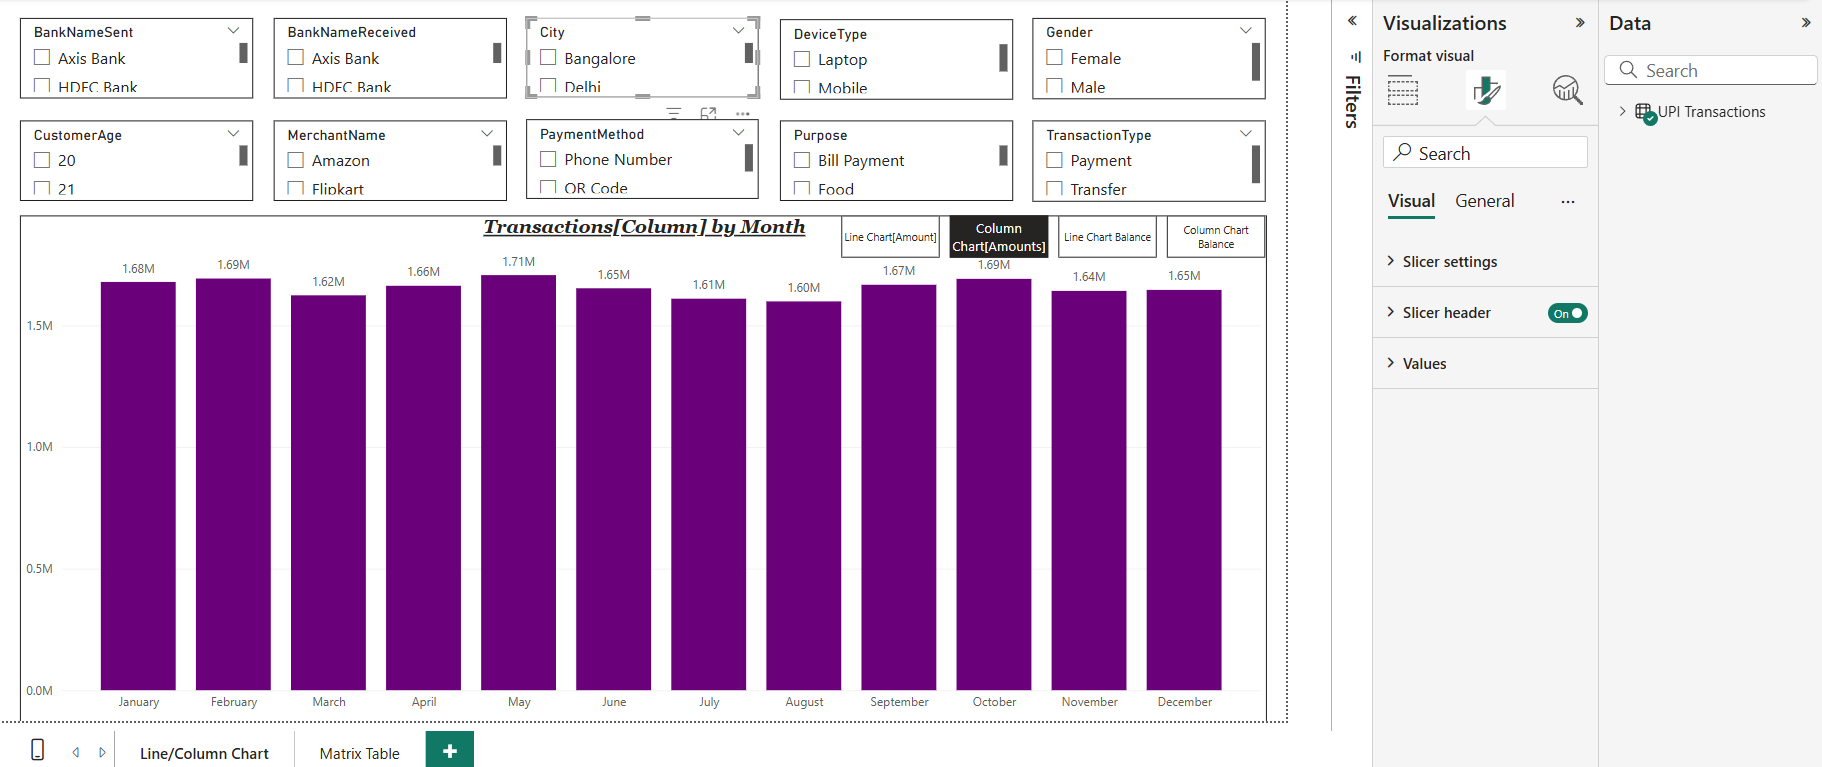

What the dashboard file says about the page in this screenshot:
{"tool":"powerbi","page":{"name":"Line/Column Chart","canvas":[1280,720],"ordinal":0},"visuals":[{"type":"slicer","fields":{"Values":["UPI Transactions.BankNameSent"]},"box":[20,20,232,80],"z":0},{"type":"slicer","fields":{"Values":["UPI Transactions.CustomerAge"]},"box":[20,121.4,232,80],"z":1000},{"type":"slicer","fields":{"Values":["UPI Transactions.BankNameReceived"]},"box":[272,20,232,80],"z":2000},{"type":"slicer","fields":{"Values":["UPI Transactions.MerchantName"]},"box":[272,121.4,232,80],"z":3000},{"type":"slicer","fields":{"Values":["UPI Transactions.City"]},"box":[523.4,19.6,231.1,79.5],"z":4000},{"type":"slicer","fields":{"Values":["UPI Transactions.PaymentMethod"]},"box":[523.4,121,231.1,79.5],"z":5000},{"type":"slicer","fields":{"Values":["UPI Transactions.DeviceType"]},"box":[776,20.8,232,80],"z":6000},{"type":"slicer","fields":{"Values":["UPI Transactions.Purpose"]},"box":[776,122.2,232,80],"z":7000},{"type":"slicer","fields":{"Values":["UPI Transactions.Gender"]},"box":[1028,20,232,80.7],"z":8000},{"type":"slicer","fields":{"Values":["UPI Transactions.TransactionType"]},"box":[1028,121.4,232,80.7],"z":9000},{"type":"lineChart","title":"Balance by Month[Line]","fields":{"Category":["UPI Transactions.TransactionDate.Variation.Date Hierarchy.Month"],"Y":["Sum(UPI Transactions.RemainingBalance)"]},"box":[19,216.1,1241.6,503.9],"z":14000},{"type":"bookmarkNavigator","box":[836.6,216,424.5,42.2],"z":14500}]}

Visuals, with their boxes on the page's 1280x720 design canvas (x1, y1, x2, y2). These are canvas units, not pixel positions in the 1822x767 screenshot, which may show the page scaled, cropped or inside an application window:
slicer - UPI Transactions.BankNameSent: x1=20, y1=20, x2=252, y2=100
slicer - UPI Transactions.CustomerAge: x1=20, y1=121, x2=252, y2=201
slicer - UPI Transactions.BankNameReceived: x1=272, y1=20, x2=504, y2=100
slicer - UPI Transactions.MerchantName: x1=272, y1=121, x2=504, y2=201
slicer - UPI Transactions.City: x1=523, y1=20, x2=754, y2=99
slicer - UPI Transactions.PaymentMethod: x1=523, y1=121, x2=754, y2=200
slicer - UPI Transactions.DeviceType: x1=776, y1=21, x2=1008, y2=101
slicer - UPI Transactions.Purpose: x1=776, y1=122, x2=1008, y2=202
slicer - UPI Transactions.Gender: x1=1028, y1=20, x2=1260, y2=101
slicer - UPI Transactions.TransactionType: x1=1028, y1=121, x2=1260, y2=202
"Balance by Month[Line]" lineChart: x1=19, y1=216, x2=1261, y2=720
bookmarkNavigator: x1=837, y1=216, x2=1261, y2=258
